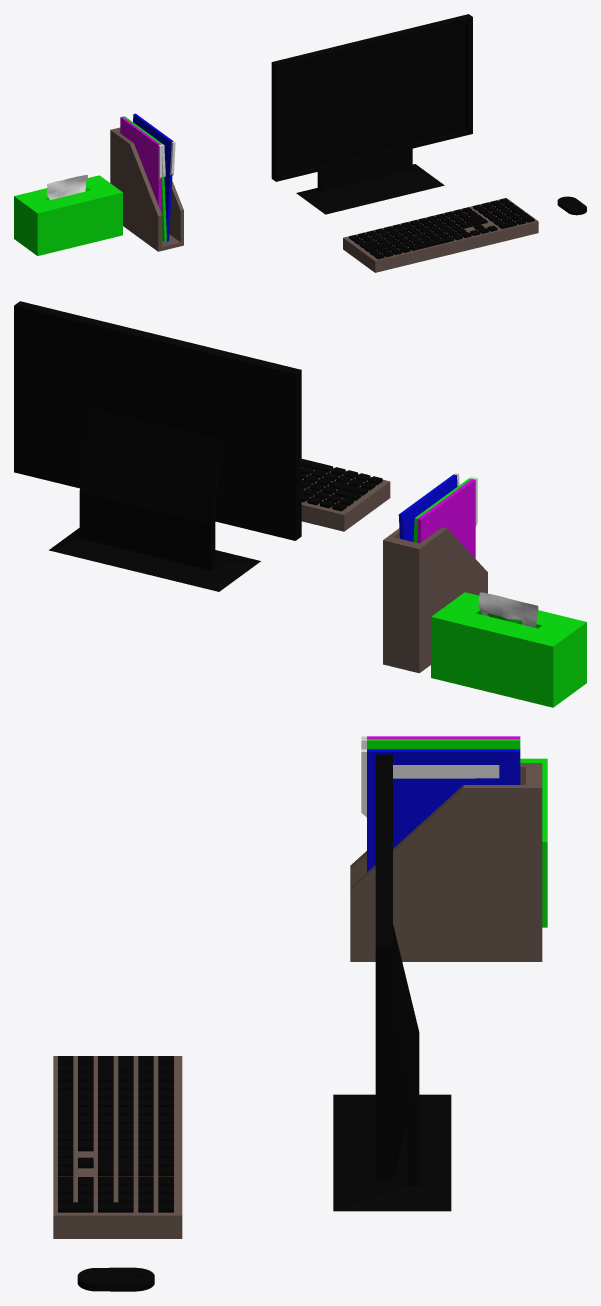
Rendered from on_the_desk.fbx.
3 renders of one model, top to bottom at view 1: azimuth 30°, elevation 25°; view 2: azimuth 150°, elevation 25°; view 3: azimuth 270°, elevation 25°, orthographic. The views are drawn at different scales.
Visible parts, largest first — view 1: Cube, Cube.001, Cube.006, Cube.004, Cylinder; view 2: Cube, Cube.004, Cube.006, Cube.001; view 3: Cube.006, Cube.001, Cube, Cylinder, Cube.004.
Boxes of the visible parts, <box> form: Cube: <box>271,14,472,214</box>; Cube.001: <box>343,198,538,272</box>; Cube.006: <box>110,113,183,251</box>; Cube.004: <box>14,174,122,255</box>; Cylinder: <box>557,196,586,215</box>; Cube: <box>14,301,301,591</box>; Cube.004: <box>431,592,586,707</box>; Cube.006: <box>383,473,487,673</box>; Cube.001: <box>301,459,390,531</box>; Cube.006: <box>350,736,542,961</box>; Cube.001: <box>53,1056,182,1238</box>; Cube: <box>333,754,451,1211</box>; Cylinder: <box>77,1267,154,1291</box>; Cube.004: <box>520,758,547,927</box>.
Size of the model in its own units: 124 by 39.4 by 57.56.
